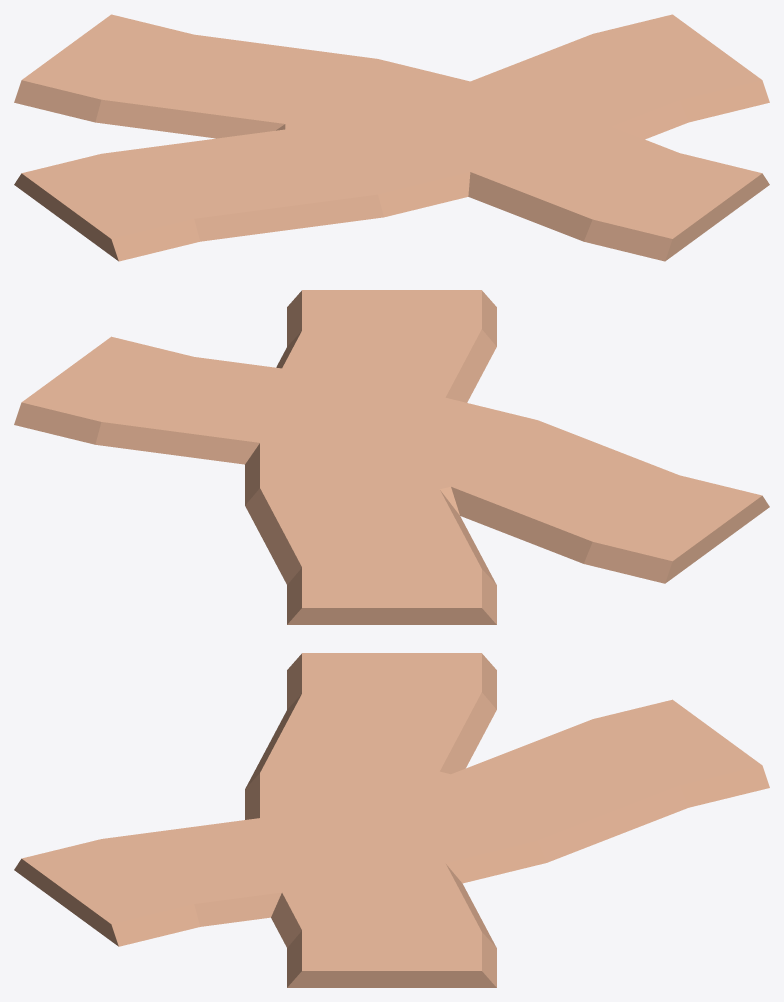
The model's file is path_intersectionE.glb.
The picture shows the model from 3 angles, top to bottom: view 1: azimuth 30°, elevation 25°; view 2: azimuth 150°, elevation 25°; view 3: azimuth 270°, elevation 25°; orthographic projection.
Parts seen in each view (by area): view 1: path_intersectionE; view 2: path_intersectionE; view 3: path_intersectionE.
Part boxes in pixels (box(x1,y1,x2,y2)): path_intersectionE: box(14, 14, 769, 261); path_intersectionE: box(14, 290, 769, 624); path_intersectionE: box(14, 653, 769, 987).
Bounding box in the file's own units: 1 × 0.025 × 1.01.
